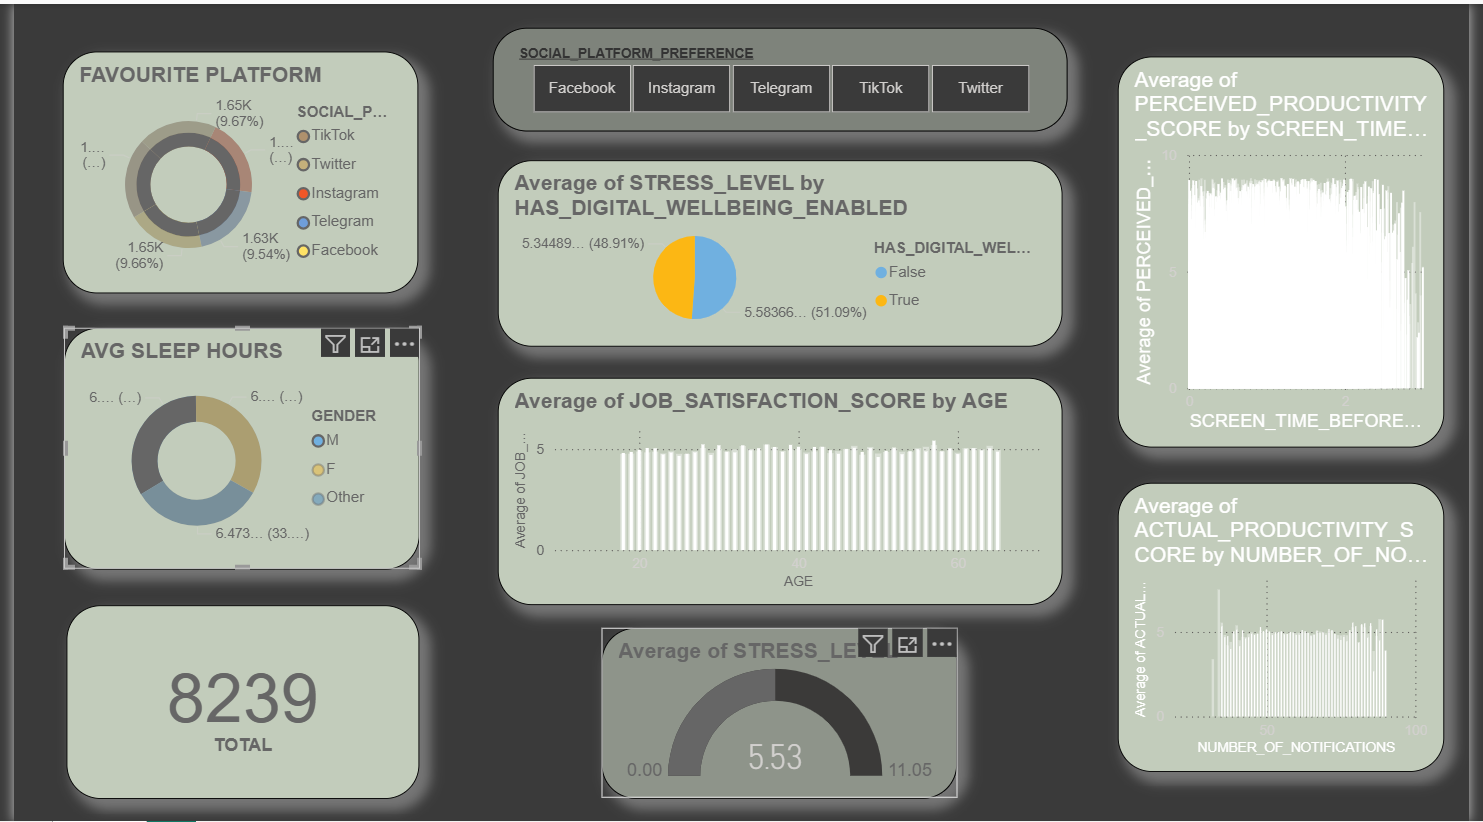

This screenshot's page, from the dashboard's own definition file:
{"tool":"powerbi","page":{"name":"Page 1","canvas":[1280,720],"ordinal":0},"visuals":[{"type":"donutChart","title":"FAVOURITE PLATFORM","fields":{"Category":["DIM_PLATFORM.SOCIAL_PLATFORM_PREFERENCE"],"Y":["CountNonNull(FACT_PRODUCTIVITY.FACT_ID)"]},"box":[42.9,41.4,312.9,212.9],"z":0},{"type":"donutChart","title":"AVG SLEEP HOURS","fields":{"Y":["Avg(DIM_WELLBEING.SLEEP_HOURS)"],"Category":["DIM_USER.GENDER"]},"box":[44.3,284.3,312.9,212.9],"z":1000},{"type":"card","fields":{"Values":["CountNonNull(FACT_PRODUCTIVITY.FACT_ID)"]},"box":[45.7,528.6,310,170],"z":2000},{"type":"slicer","fields":{"Values":["DIM_PLATFORM.SOCIAL_PLATFORM_PREFERENCE"]},"box":[421.4,21.4,505.7,91.4],"z":3000},{"type":"pieChart","fields":{"Y":["Avg(DIM_WELLBEING.STRESS_LEVEL)"],"Category":["DIM_SOCIAL_BEHAVIOUR.HAS_DIGITAL_WELLBEING_ENABLED"]},"box":[425.7,137.1,497.1,164.3],"z":3001},{"type":"columnChart","fields":{"Y":["Avg(DIM_WELLBEING.JOB_SATISFACTION_SCORE)"],"Category":["DIM_USER.AGE"]},"box":[425.7,328.6,497.1,200],"z":3002},{"type":"gauge","fields":{"Y":["Avg(DIM_WELLBEING.STRESS_LEVEL)"]},"box":[517.1,548.6,312.9,150],"z":3003},{"type":"lineStackedColumnComboChart","fields":{"Category":["DIM_SOCIAL_BEHAVIOUR.SCREEN_TIME_BEFORE_SLEEP"],"Y":["Avg(FACT_PRODUCTIVITY.PERCEIVED_PRODUCTIVITY_SCORE)"]},"box":[970.9,46.2,287,344.2],"z":3004},{"type":"columnChart","fields":{"Y":["Avg(FACT_PRODUCTIVITY.ACTUAL_PRODUCTIVITY_SCORE)"],"Category":["DIM_SOCIAL_BEHAVIOUR.NUMBER_OF_NOTIFICATIONS"]},"box":[970.9,421.1,287,254],"z":3005}]}

Visuals, with their boxes in screenshot pixels (x1, y1, x2, y2), scaled from the page's 1280x720 canvas onto the 1483x822 screenshot:
"FAVOURITE PLATFORM" donutChart: box=[50, 47, 412, 290]
"AVG SLEEP HOURS" donutChart: box=[51, 325, 414, 568]
card - CountNonNull(FACT_PRODUCTIVITY.FACT_ID): box=[53, 603, 412, 798]
slicer - DIM_PLATFORM.SOCIAL_PLATFORM_PREFERENCE: box=[488, 24, 1074, 129]
pieChart - Avg(DIM_WELLBEING.STRESS_LEVEL) x DIM_SOCIAL_BEHAVIOUR.HAS_DIGITAL_WELLBEING_ENABLED: box=[493, 157, 1069, 344]
columnChart - Avg(DIM_WELLBEING.JOB_SATISFACTION_SCORE) x DIM_USER.AGE: box=[493, 375, 1069, 603]
gauge - Avg(DIM_WELLBEING.STRESS_LEVEL): box=[599, 626, 962, 798]
lineStackedColumnComboChart - DIM_SOCIAL_BEHAVIOUR.SCREEN_TIME_BEFORE_SLEEP x Avg(FACT_PRODUCTIVITY.PERCEIVED_PRODUCTIVITY_SCORE): box=[1125, 53, 1457, 446]
columnChart - Avg(FACT_PRODUCTIVITY.ACTUAL_PRODUCTIVITY_SCORE) x DIM_SOCIAL_BEHAVIOUR.NUMBER_OF_NOTIFICATIONS: box=[1125, 481, 1457, 771]
